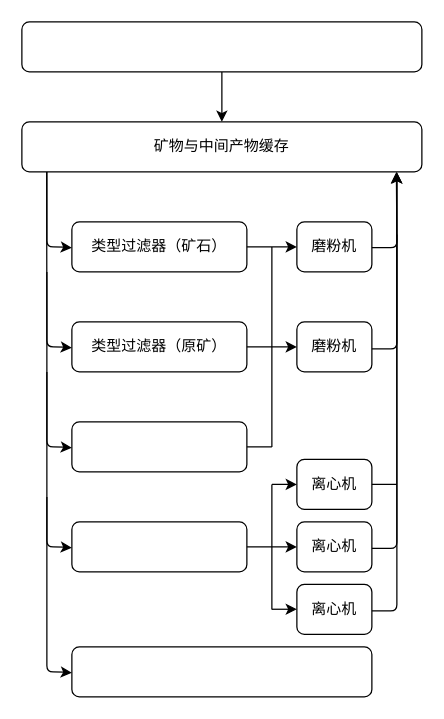
Image size: 444x719. Some labels were removed from this diagram. The centre of each missing label's shape, as x and y in pixels:
类型过滤器（含杂粉）: (x=159, y=546)
类型过滤器（粉碎矿）: (x=159, y=446)
输出: (x=221, y=671)
采矿输入: (x=221, y=46)
